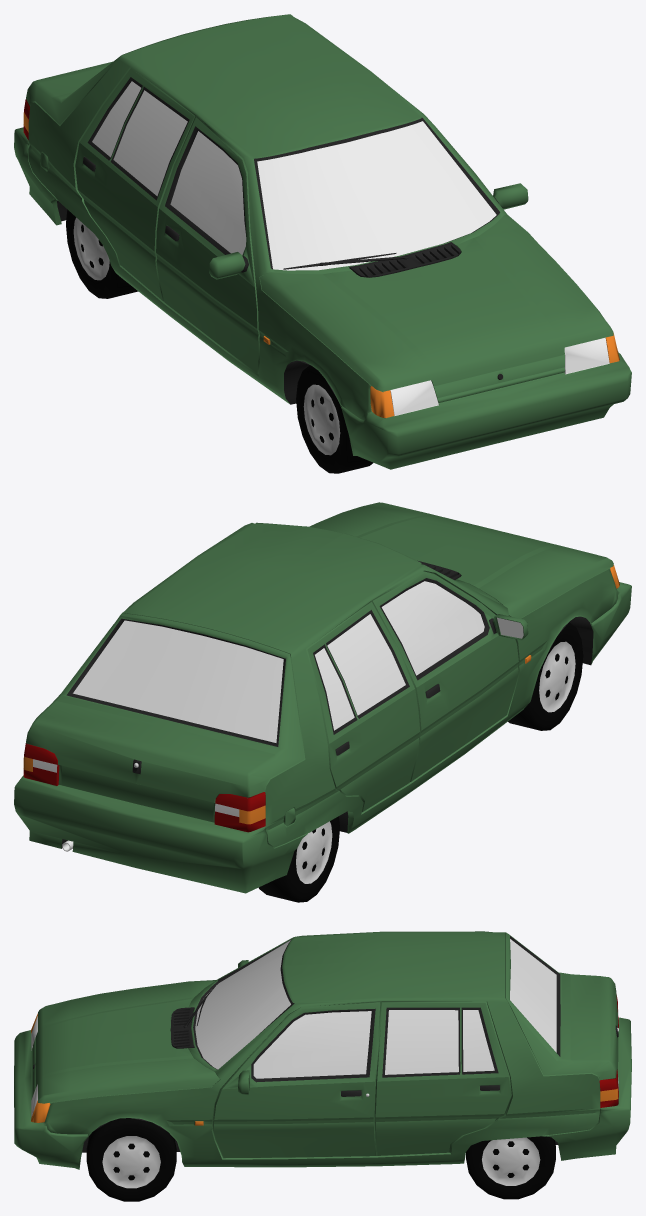
File: ZAZ_1103.fbx
The picture shows the model from 3 angles, top to bottom: view 1: azimuth 30°, elevation 25°; view 2: azimuth 150°, elevation 25°; view 3: azimuth 270°, elevation 25°; orthographic projection. The views are drawn at different scales.
Parts seen in each view (by area): view 1: Body, Wheel.FR, Wheel.RR; view 2: Body, Wheel.FR, Wheel.RR; view 3: Body, Wheel.FL, Wheel.RL.
Part boxes in pixels (x1,y1,x2,y2): Body: [14, 14, 631, 469]; Wheel.FR: [296, 365, 373, 473]; Wheel.RR: [66, 209, 138, 298]; Body: [14, 502, 631, 893]; Wheel.FR: [508, 622, 583, 730]; Wheel.RR: [258, 816, 339, 902]; Body: [14, 931, 631, 1169]; Wheel.FL: [86, 1118, 176, 1201]; Wheel.RL: [466, 1136, 555, 1199].
Bounding box in the file's own units: 190 × 139 × 402.
